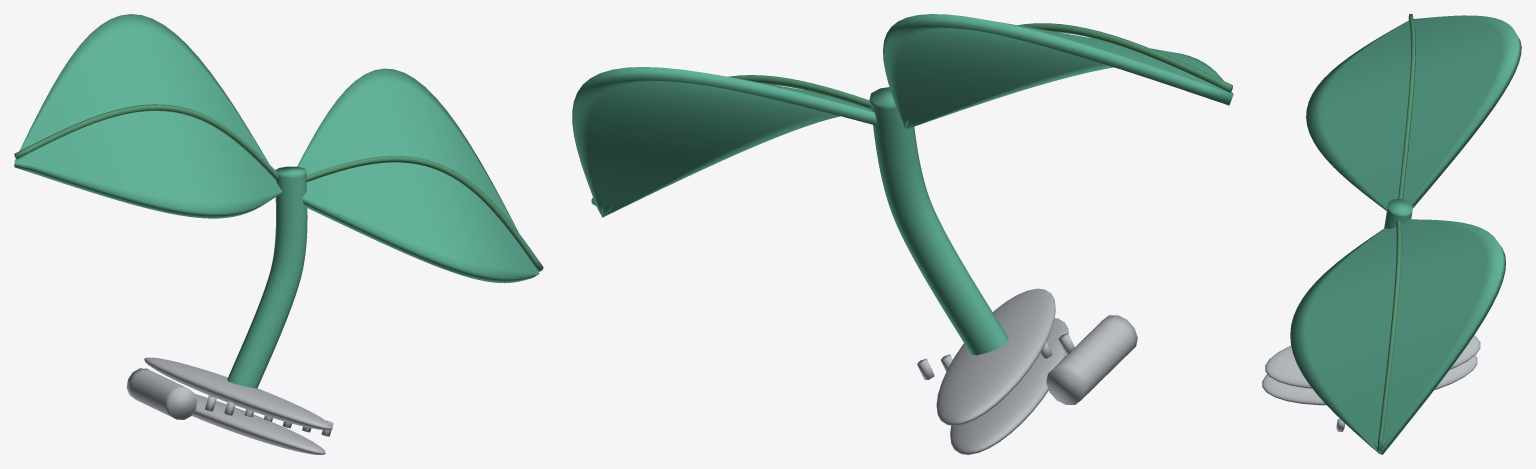
File: Feminine-curls-ears261-sprout.glb
The picture shows the model from 3 angles, left to right: view 1: azimuth 30°, elevation 25°; view 2: azimuth 150°, elevation 25°; view 3: azimuth 270°, elevation 25°; orthographic projection. The views are drawn at different scales.
Parts seen in each view (by area): view 1: 226 extra / Accessory / mint226, 226 extra / Sprout / clip silver235, 226 extra / Sprout / leaf vein235; view 2: 226 extra / Accessory / mint226, 226 extra / Sprout / clip silver235, 226 extra / Sprout / leaf vein235; view 3: 226 extra / Accessory / mint226, 226 extra / Sprout / clip silver235, 226 extra / Sprout / leaf vein235.
Boxes of the visible parts, box(x1,y1,x2,y2) form: 226 extra / Accessory / mint226: box(14, 14, 539, 388); 226 extra / Sprout / clip silver235: box(126, 357, 333, 454); 226 extra / Sprout / leaf vein235: box(14, 104, 543, 271); 226 extra / Accessory / mint226: box(572, 14, 1233, 355); 226 extra / Sprout / clip silver235: box(917, 288, 1137, 454); 226 extra / Sprout / leaf vein235: box(591, 23, 1232, 205); 226 extra / Accessory / mint226: box(1290, 15, 1521, 454); 226 extra / Sprout / clip silver235: box(1262, 335, 1480, 431); 226 extra / Sprout / leaf vein235: box(1377, 14, 1415, 451).
Bounding box in the file's own units: 0.2505 × 0.1768 × 0.1194.
